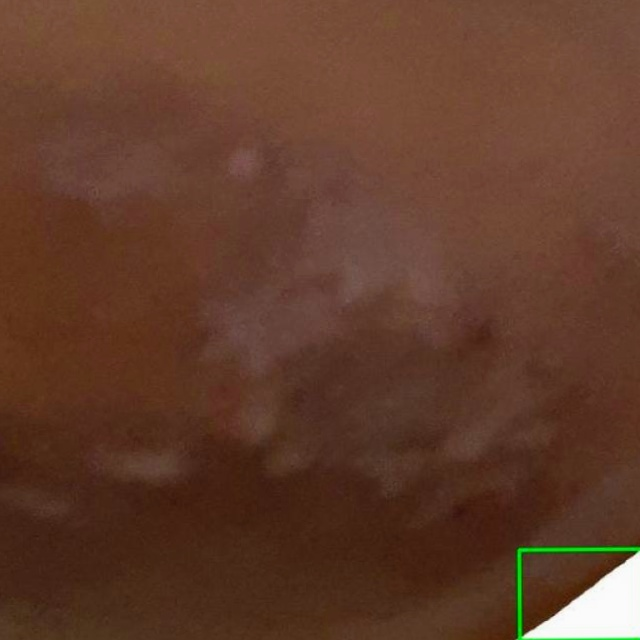Eczema: (519, 548, 639, 639)
